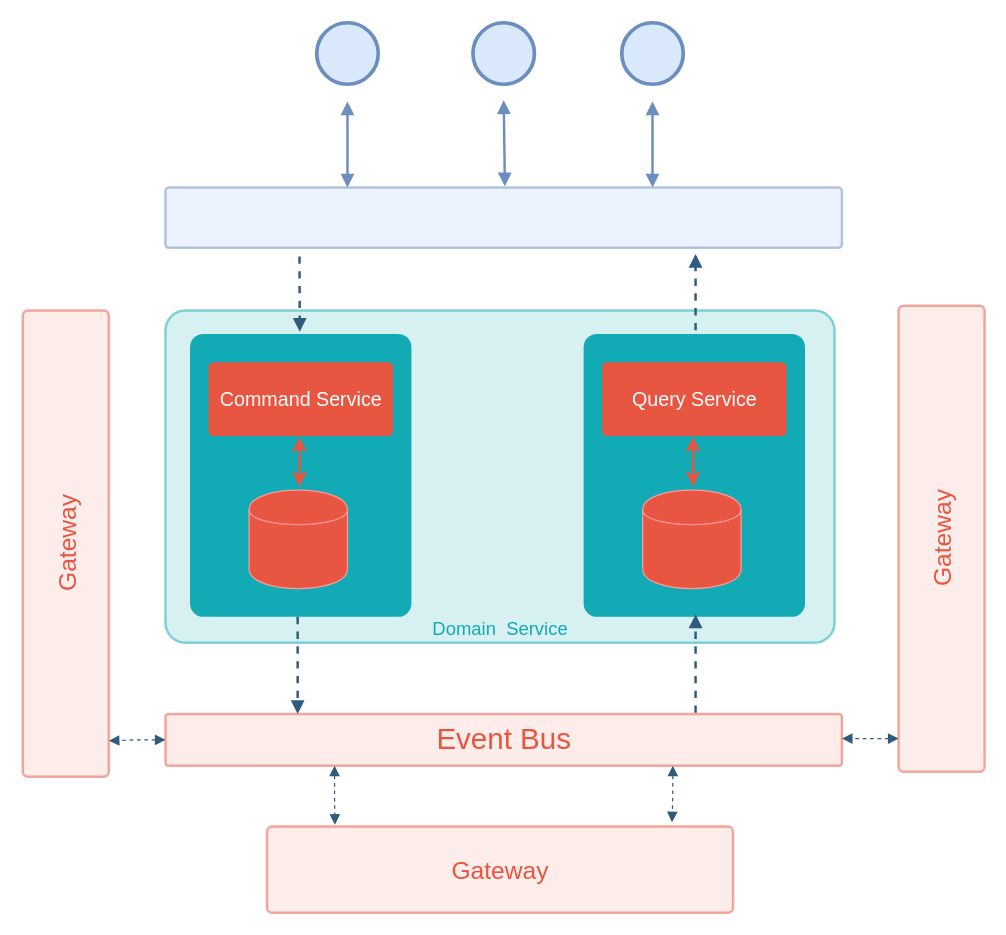
The diagram is 1006 pixels wide and 935 high, and some of its shapes have lost their labels. Here are the shapes that lost their labels. From the top down, the centre of each, then its label:
At [503,217]: "Api Gateway".
At [297,539]: "Event Store".
At [691,539]: "Query Store".
